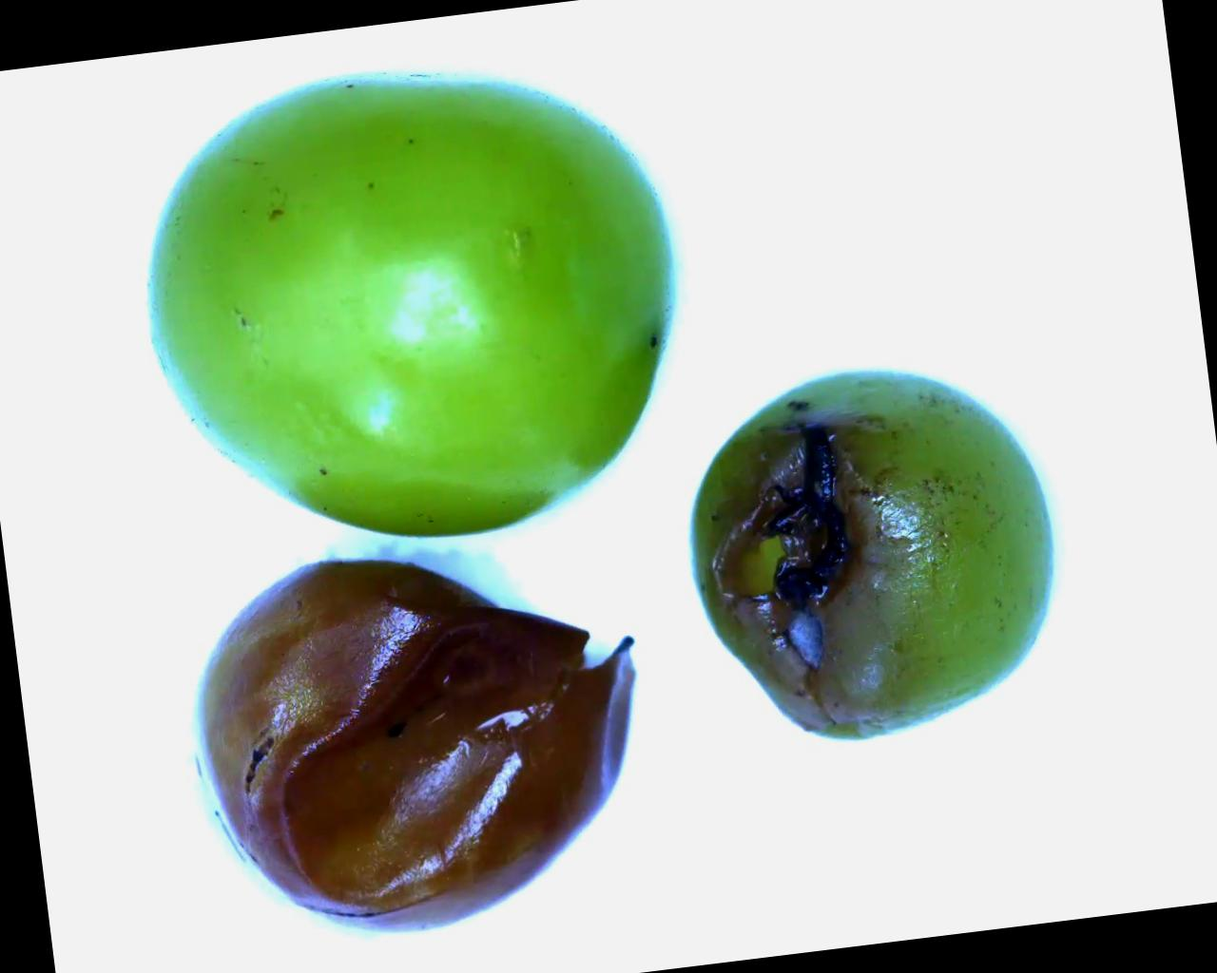Grape Rotten: (170, 520, 667, 956), (667, 345, 1076, 759)
Grape Unripe: (110, 31, 716, 551)
